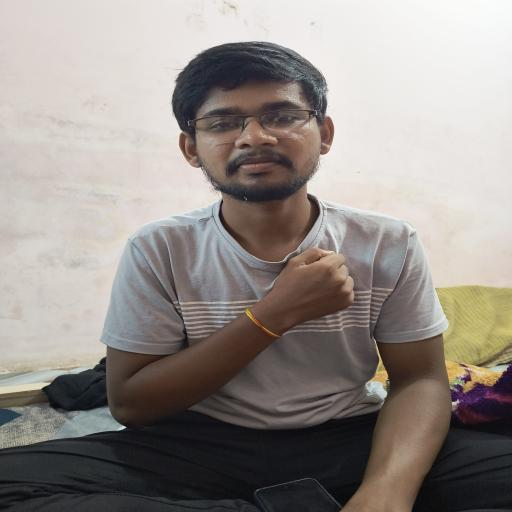Understood: (73, 198, 394, 440)
